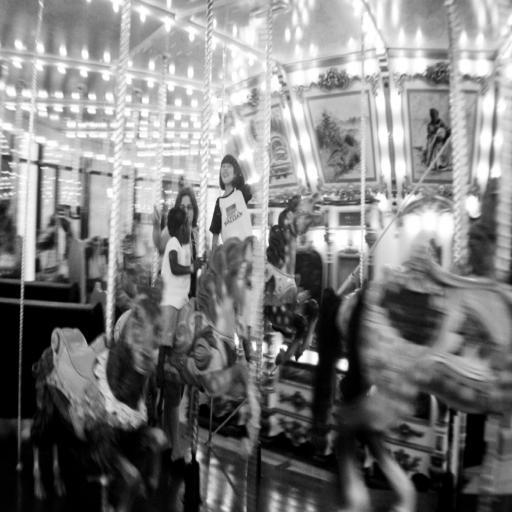horse: (30, 282, 170, 512), (156, 233, 266, 462), (260, 189, 320, 368)
